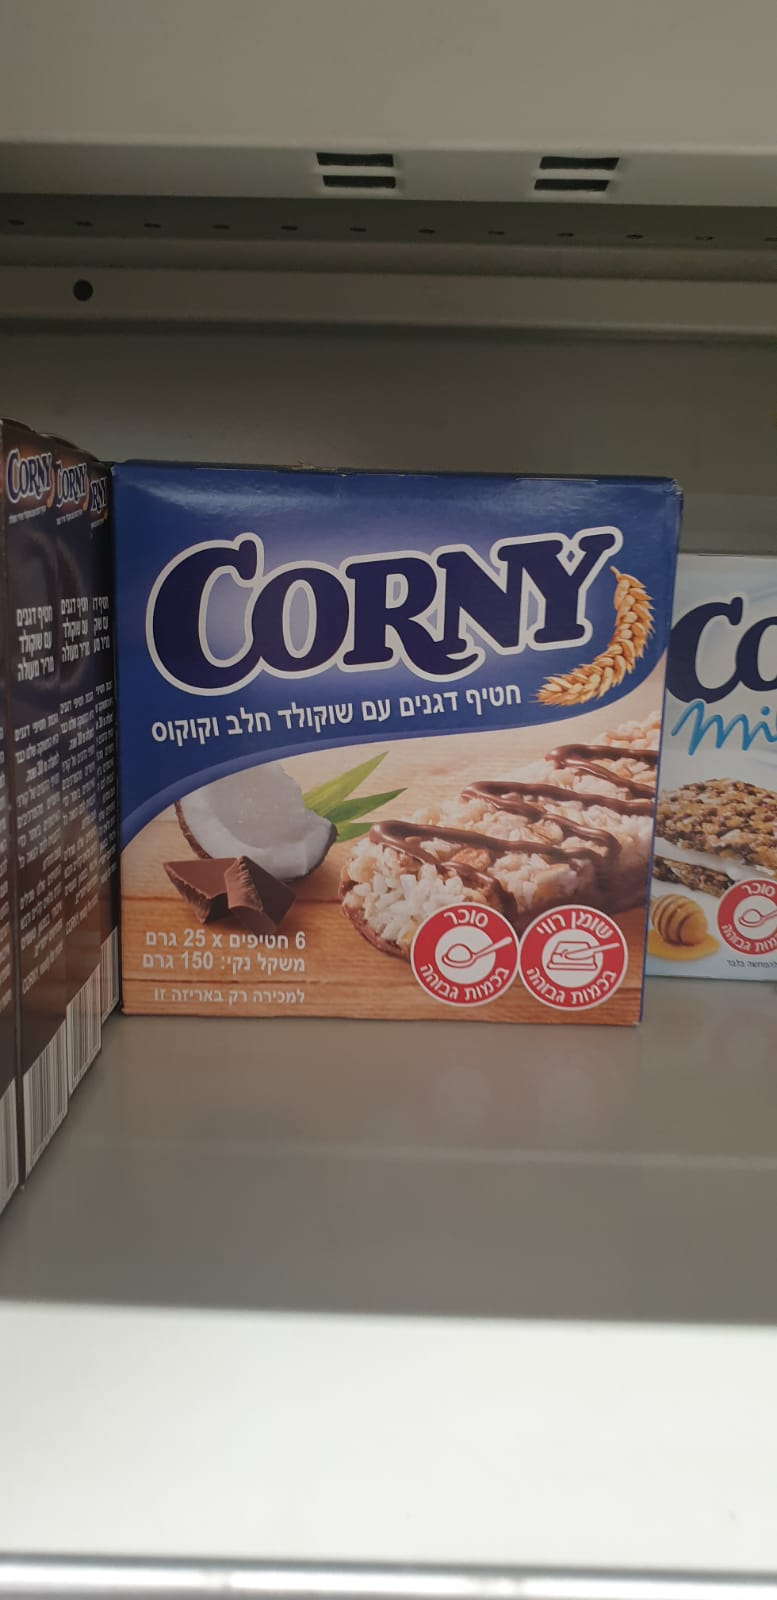fat: (517, 898, 630, 1016)
sugar: (410, 901, 520, 1006), (717, 883, 777, 954)
